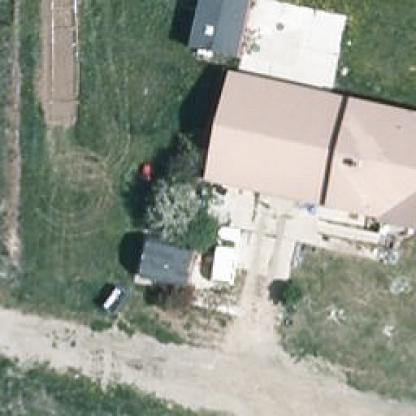car: (206, 221, 240, 291)
